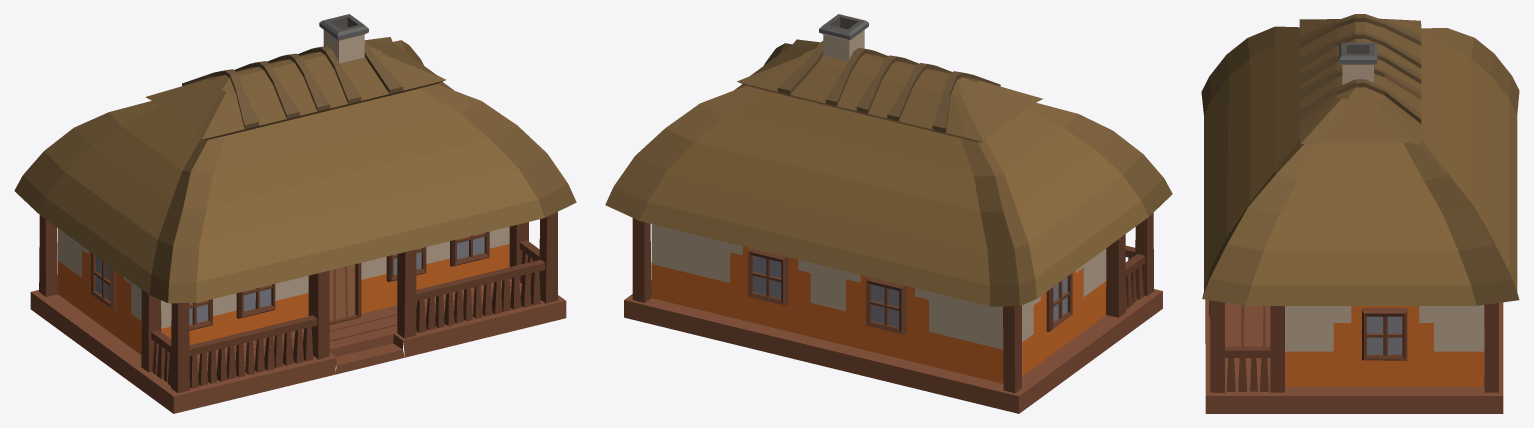
File: big_house_0.fbx
3 renders of one model, left to right at view 1: azimuth 30°, elevation 25°; view 2: azimuth 150°, elevation 25°; view 3: azimuth 270°, elevation 25°, orthographic. The views are drawn at different scales.
Visible parts, largest first — view 1: big_house_0; view 2: big_house_0; view 3: big_house_0.
Boxes of the visible parts, left/top/right/bottom form: big_house_0: left=14, top=14, right=576, bottom=413; big_house_0: left=605, top=14, right=1172, bottom=413; big_house_0: left=1201, top=14, right=1519, bottom=413.
Size of the model in its own units: 497 by 320 by 319.
